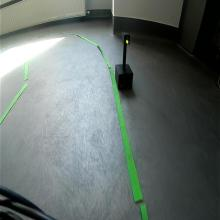green: (122, 32, 131, 45)
